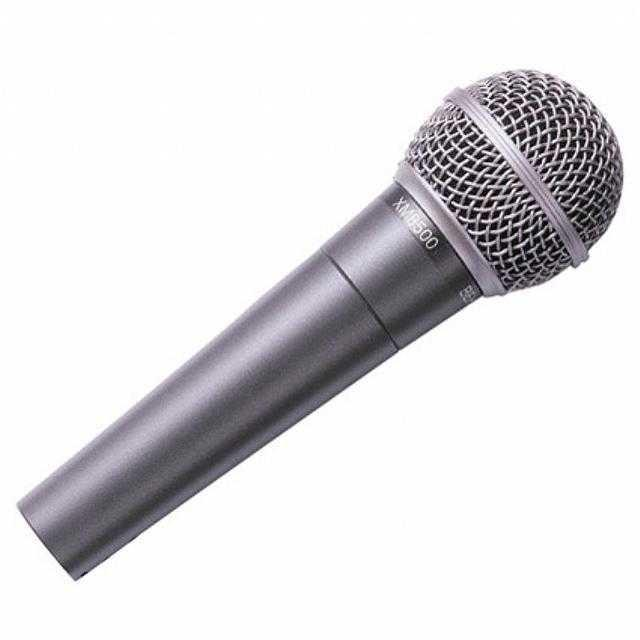microphone: (15, 71, 619, 574), (402, 71, 618, 292)
